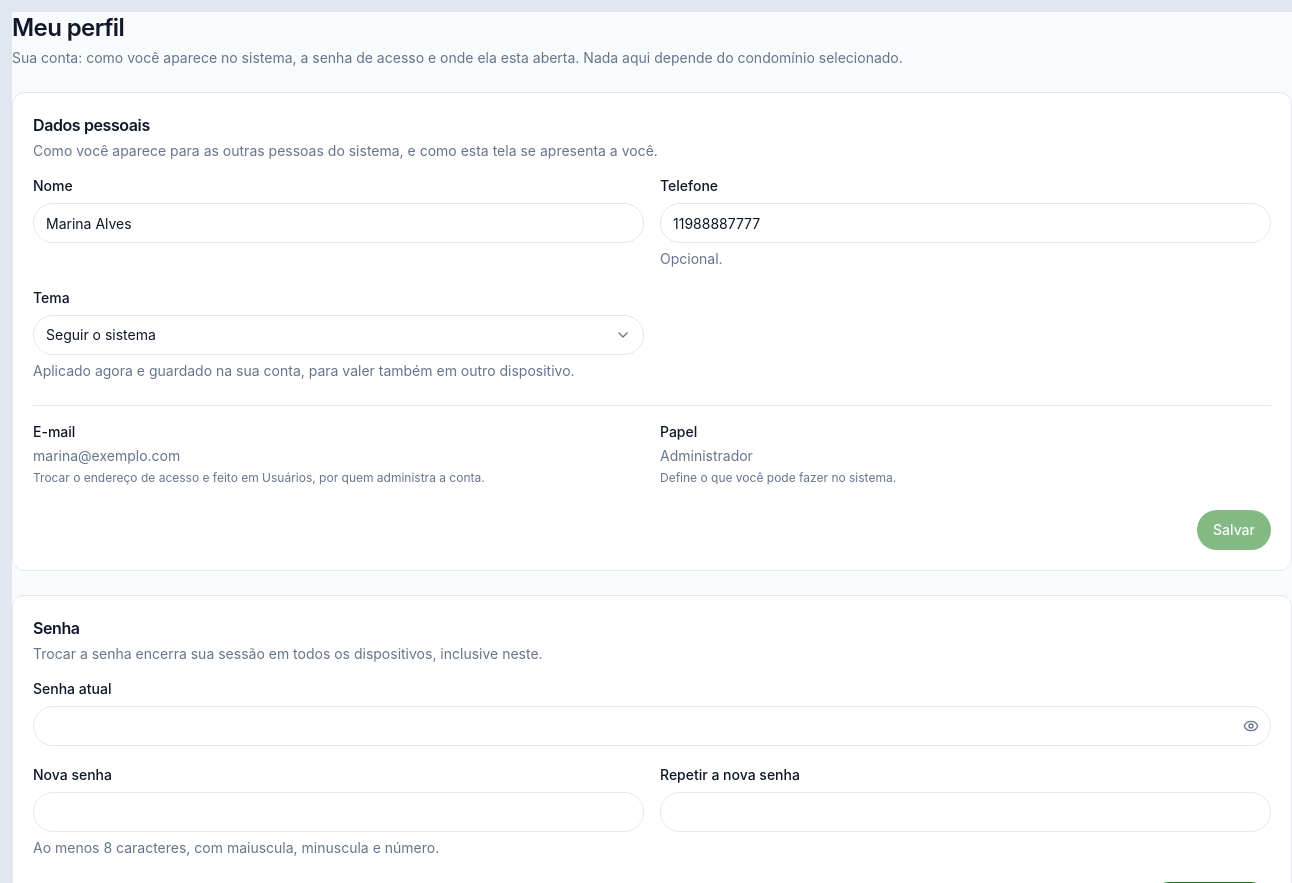
Dados pessoais › a recusa do servidor pousa no campo que a provocou
In the field labelled "Nome": (338, 223) [33,203,644,243], type " Souza"
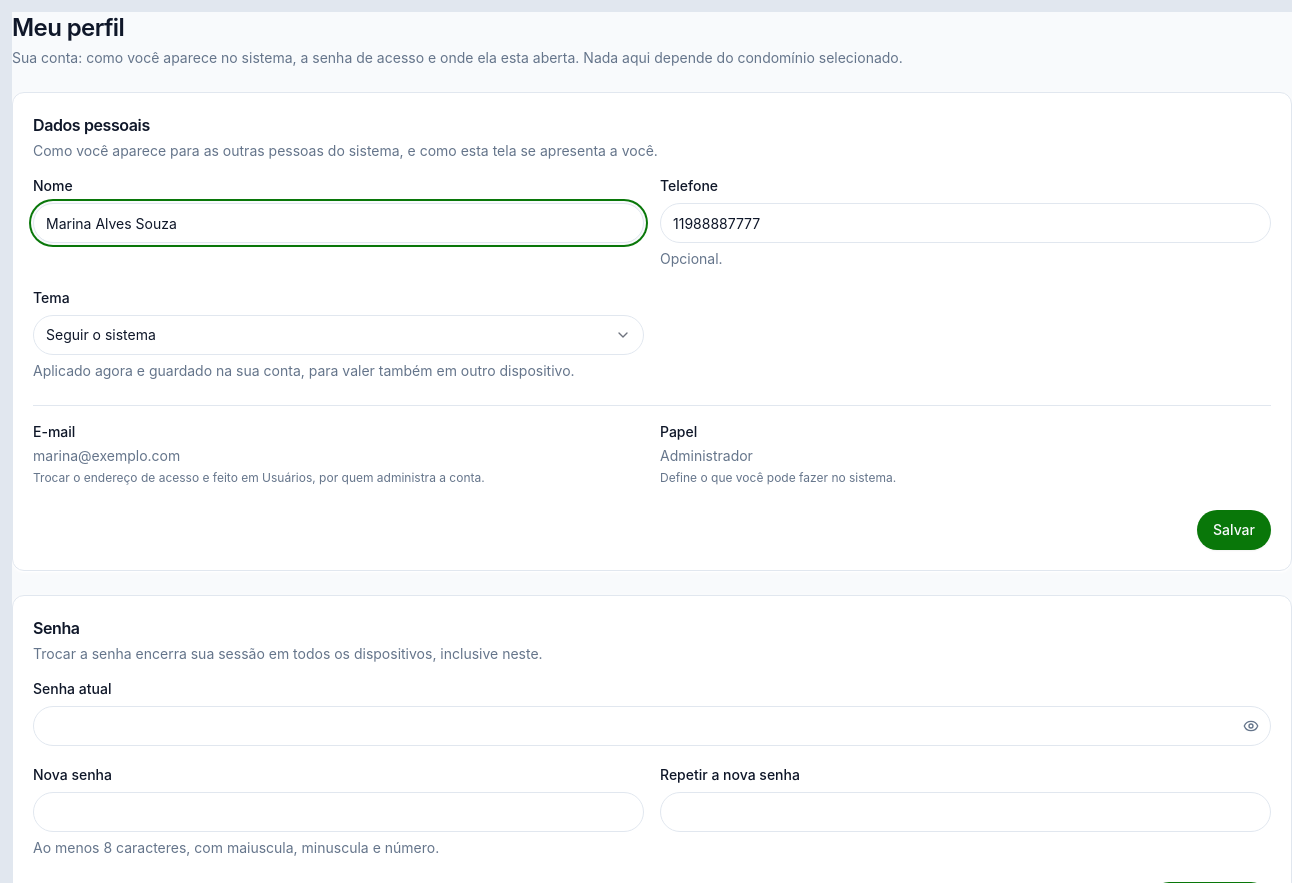
Click the button "Salvar": (1234, 530) [1197,510,1271,550]
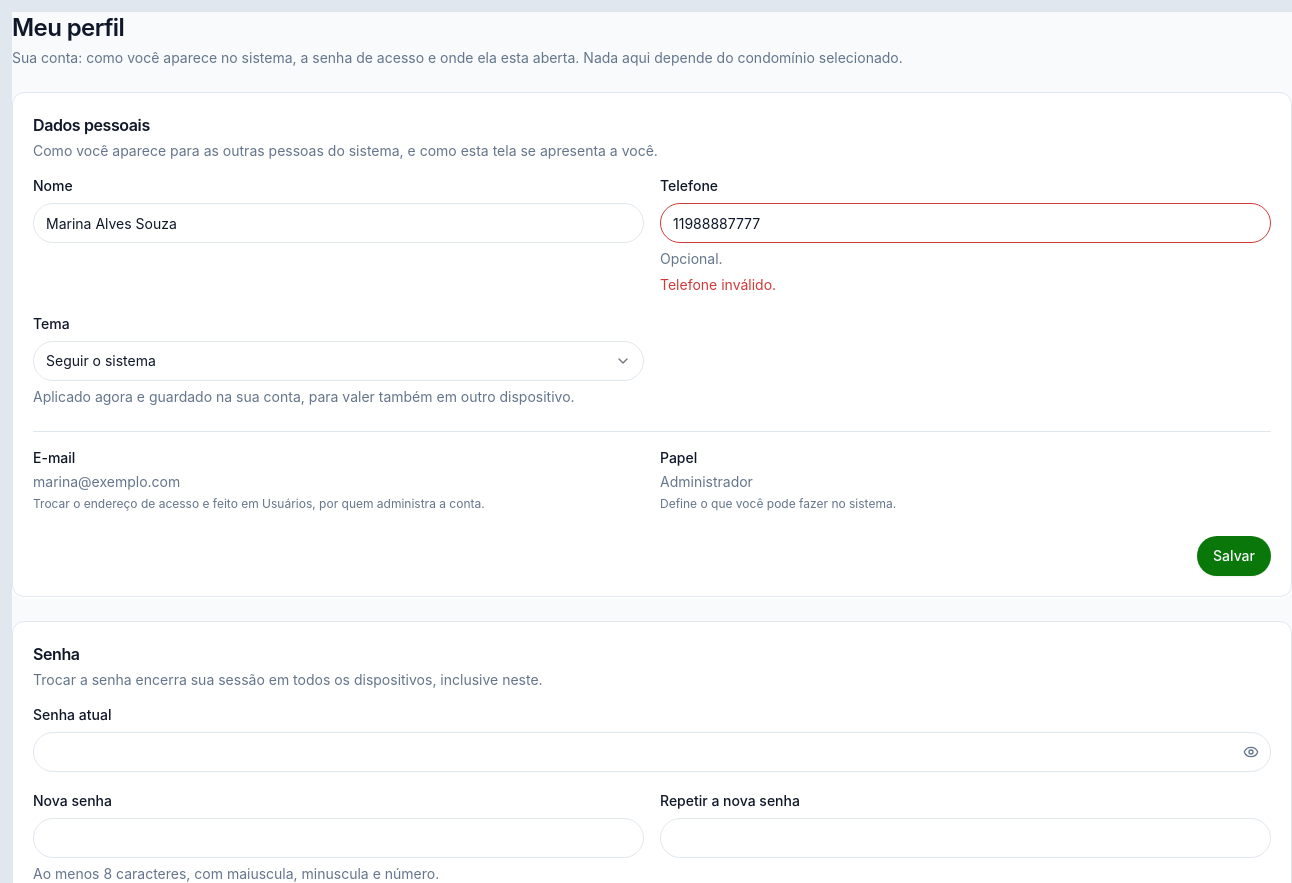
Now the text "Telefone inválido." is shown, box [660,276,776,293]
